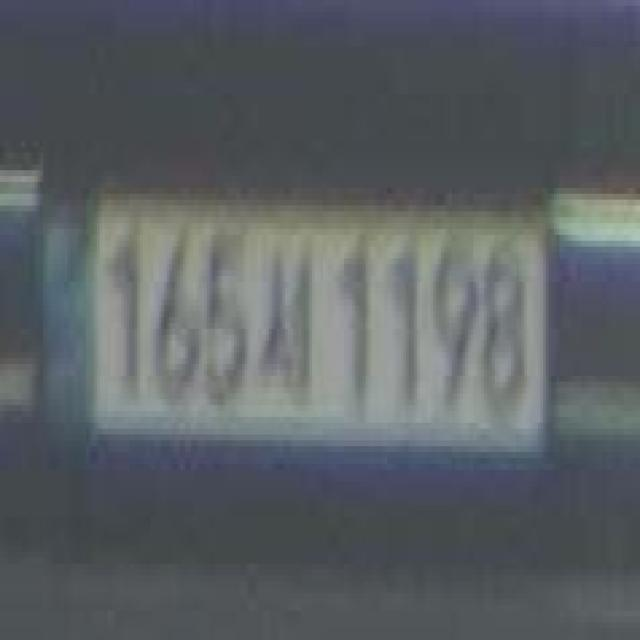illegal_plate: (33, 174, 558, 484)
